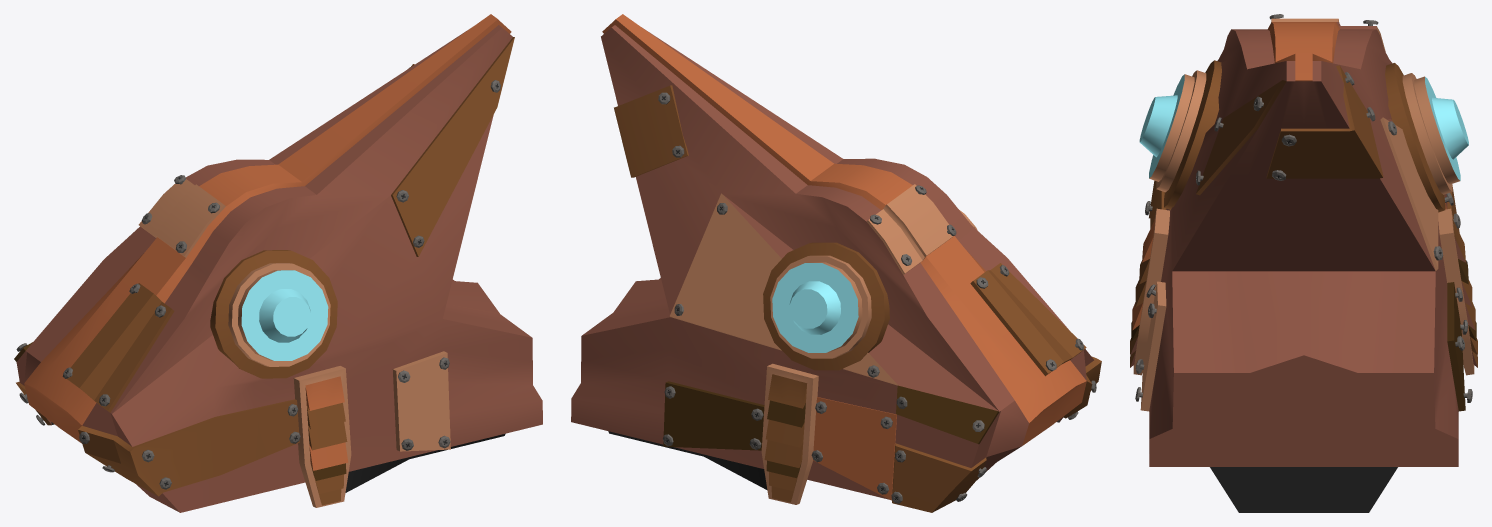
The model's file is Hoofd Kameleon.fbx.
3 renders of one model, left to right at view 1: azimuth 30°, elevation 25°; view 2: azimuth 150°, elevation 25°; view 3: azimuth 270°, elevation 25°, orthographic. The views are drawn at different scales.
Visible parts, largest first — view 1: Hoofd.001; view 2: Hoofd.001; view 3: Hoofd.001.
Boxes of the visible parts, x1,y1,x2,y2 form: Hoofd.001: (14, 14, 542, 512); Hoofd.001: (571, 14, 1101, 512); Hoofd.001: (1130, 14, 1477, 512).
Size of the model in its own units: 3664 by 3006 by 2020.
